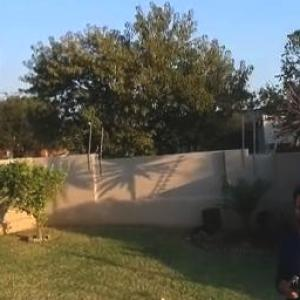follow: (273, 178, 299, 299)
